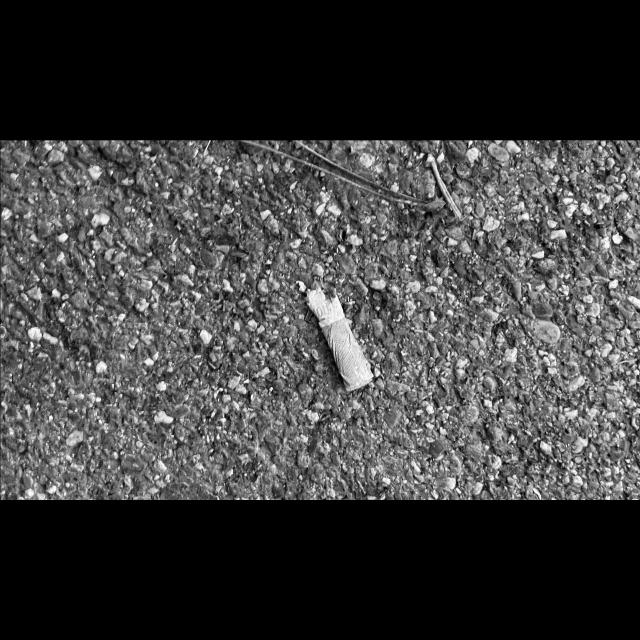cigarette: (304, 277, 374, 393)
